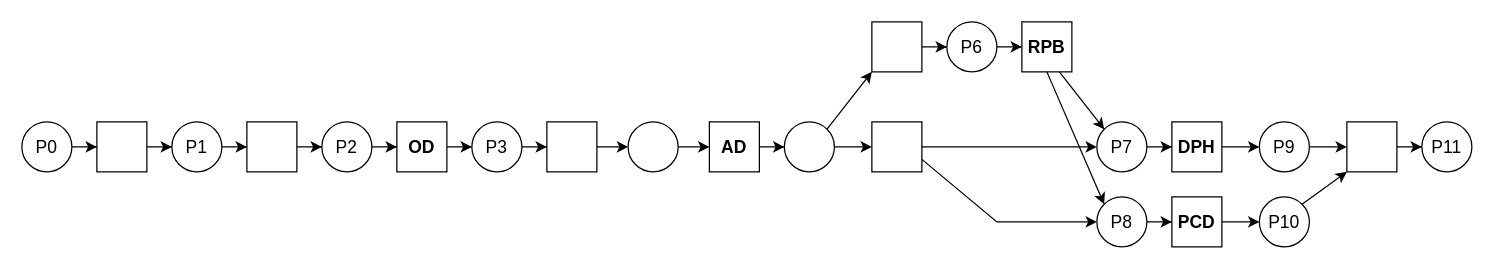
Image size: 1494x269. Some labels were removed from this diagram. The centre of each missing label's shape, as x and y in pixels:
COPA: the point at 271,146
DP: the point at 1371,146
P4: the point at 652,146
P5: the point at 808,146
PH: the point at 121,146
PRTA: the point at 896,146
RD: the point at 571,146
TP: the point at 896,46
